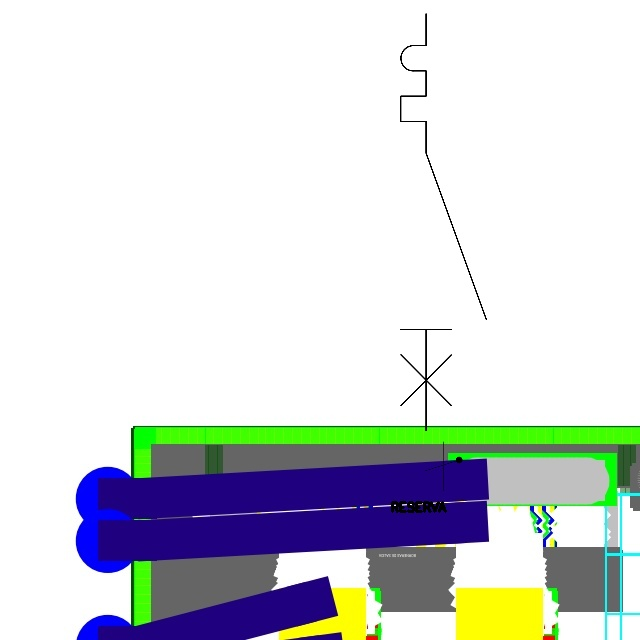interruptor_termomagnetico: (390, 3, 497, 441)
